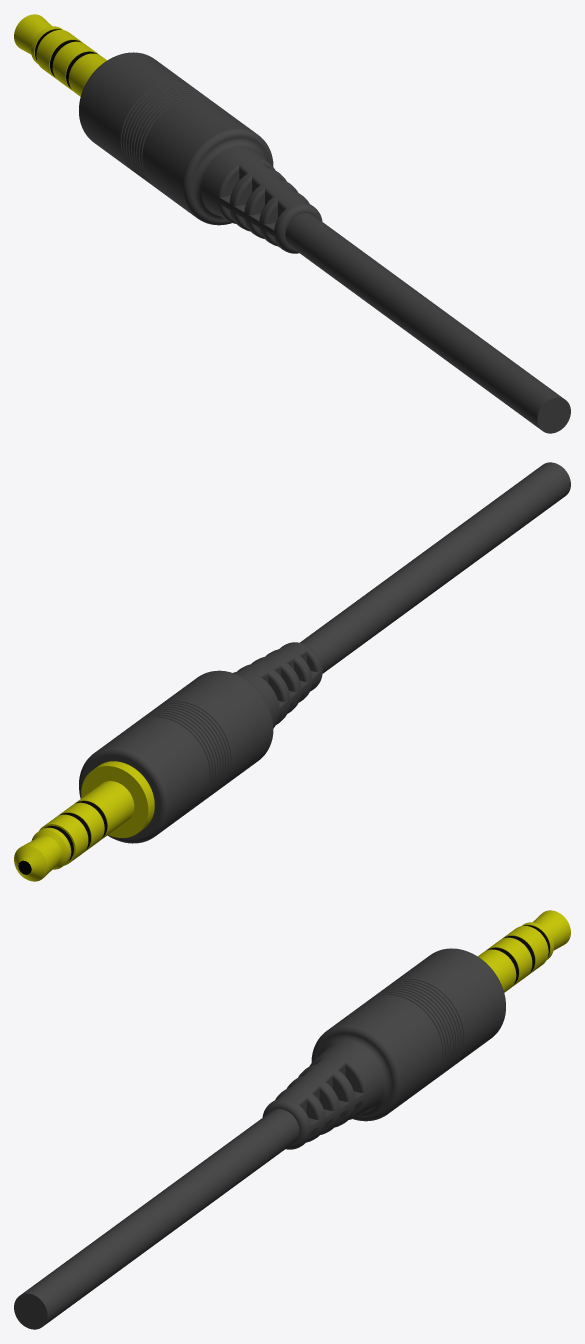
Rendered from audio-jack.fbx.
The picture shows the model from 3 angles, top to bottom: view 1: azimuth 30°, elevation 25°; view 2: azimuth 150°, elevation 25°; view 3: azimuth 330°, elevation 25°; orthographic projection.
Visible parts, largest first — view 1: Audio jack 3,5 mm (×3); view 2: Audio jack 3,5 mm (×3); view 3: Audio jack 3,5 mm (×3).
Part boxes in pixels (x1,y1,x2,y2): Audio jack 3,5 mm (×3): (14, 14, 570, 433); Audio jack 3,5 mm (×3): (14, 462, 570, 881); Audio jack 3,5 mm (×3): (14, 910, 570, 1329).
Bounding box in the file's own units: 8 × 8 × 81.9.
